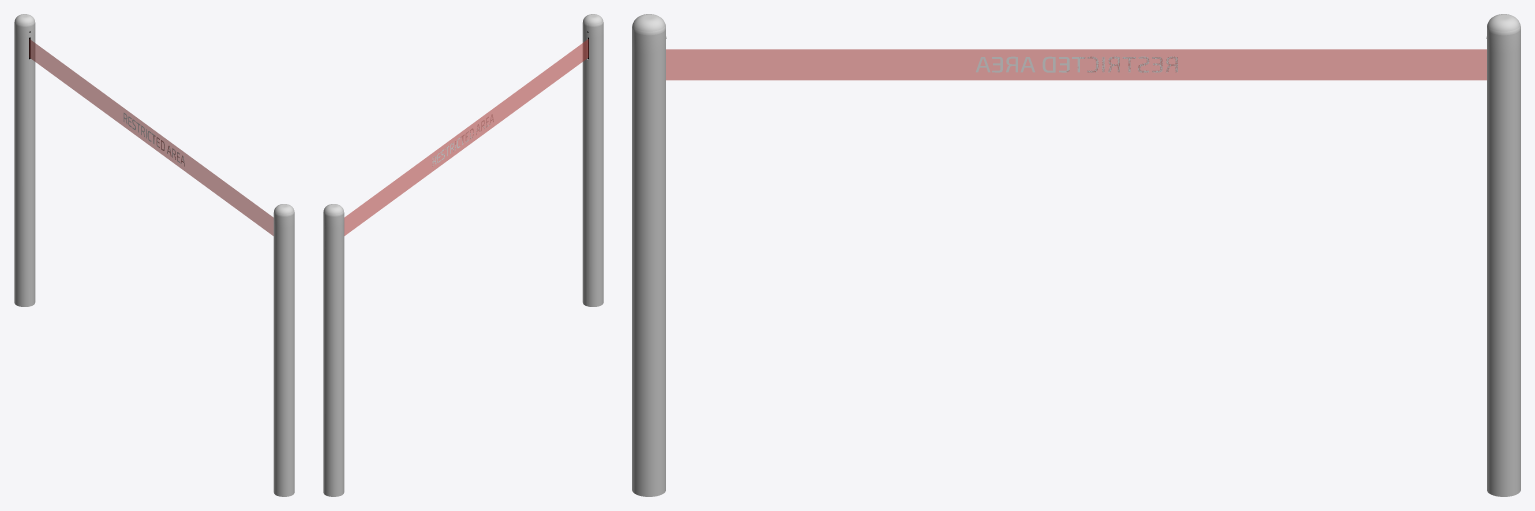
The model's file is stolbi2.fbx.
3 renders of one model, left to right at view 1: azimuth 30°, elevation 25°; view 2: azimuth 150°, elevation 25°; view 3: azimuth 270°, elevation 25°, orthographic. The views are drawn at different scales.
Parts seen in each view (by area): view 1: Pole.001, Pole, Plane, Text; view 2: Pole, Pole.001, Plane; view 3: Plane, Pole, Pole.001, Text.
Boxes of the visible parts, <box> form: Pole.001: <box>273,204,294,496</box>; Pole: <box>14,14,35,306</box>; Plane: <box>29,39,273,235</box>; Text: <box>123,113,184,165</box>; Pole: <box>323,204,344,496</box>; Pole.001: <box>582,14,603,306</box>; Plane: <box>344,39,588,235</box>; Plane: <box>666,49,1486,80</box>; Pole: <box>1487,14,1520,496</box>; Pole.001: <box>632,14,665,496</box>; Text: <box>976,56,1177,72</box>.
Size of the model in its own units: 199 by 3050 by 5199.
